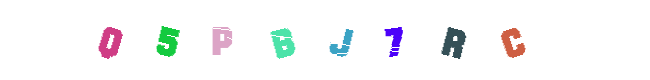5: (127, 0, 207, 80)
7: (355, 0, 435, 80)
B: (261, 0, 341, 80)
C: (472, 0, 552, 80)
J: (286, 0, 366, 80)
P: (226, 0, 306, 80)
Q: (70, 0, 150, 80)
R: (414, 0, 494, 80)
